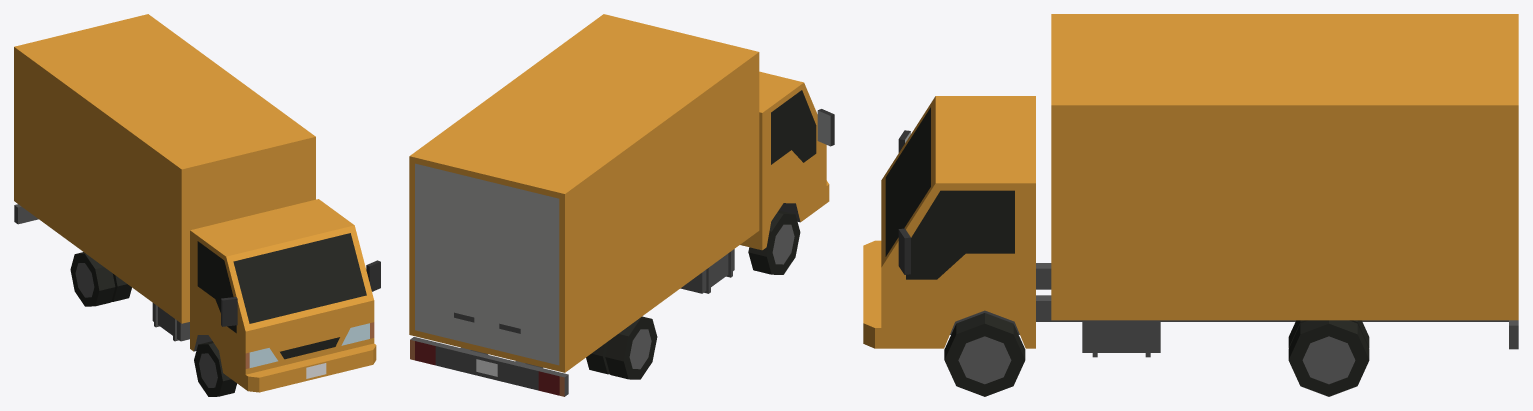
The model's file is Veh_Truck_02_Yellow.glb.
3 views of the same model, side by side, from view 1: azimuth 30°, elevation 25°; view 2: azimuth 150°, elevation 25°; view 3: azimuth 270°, elevation 25° (orthographic). The views are drawn at different scales.
Parts seen in each view (by area): view 1: Truck_02_Yellow, Wheel_RR, Wheel_FR; view 2: Truck_02_Yellow, Wheel_RR, Wheel_FR; view 3: Truck_02_Yellow, Wheel_RL, Wheel_FL.
Part boxes in pixels (x1,y1,x2,y2): Truck_02_Yellow: (14, 14, 380, 392); Wheel_RR: (70, 252, 131, 306); Wheel_FR: (194, 341, 236, 396); Truck_02_Yellow: (409, 14, 834, 396); Wheel_RR: (586, 316, 657, 379); Wheel_FR: (748, 210, 800, 274); Truck_02_Yellow: (863, 14, 1518, 357); Wheel_RL: (1288, 320, 1369, 396); Wheel_FL: (944, 313, 1025, 396).
Size of the model in its own units: 1.27 by 1.61 by 3.26.
1 material, 1 textured.
